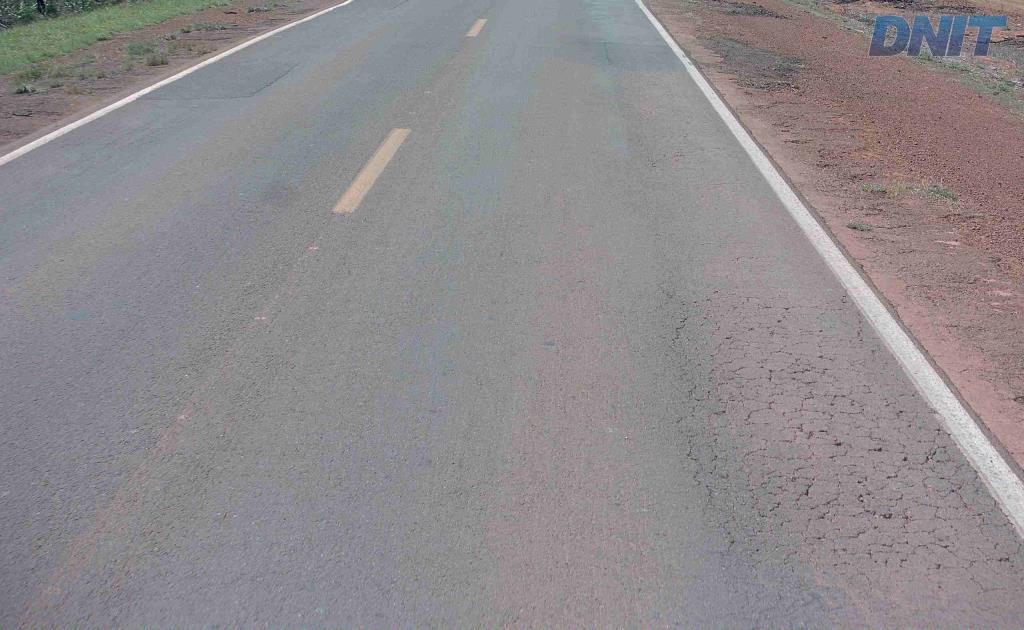crack: (704, 482, 771, 555)
